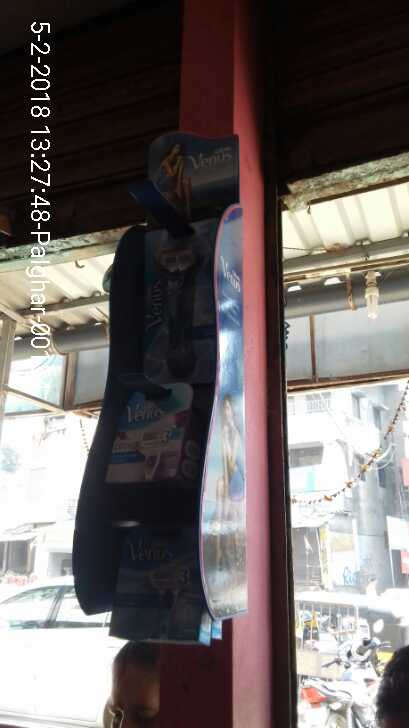venus: (135, 226, 222, 390), (105, 391, 199, 488)
